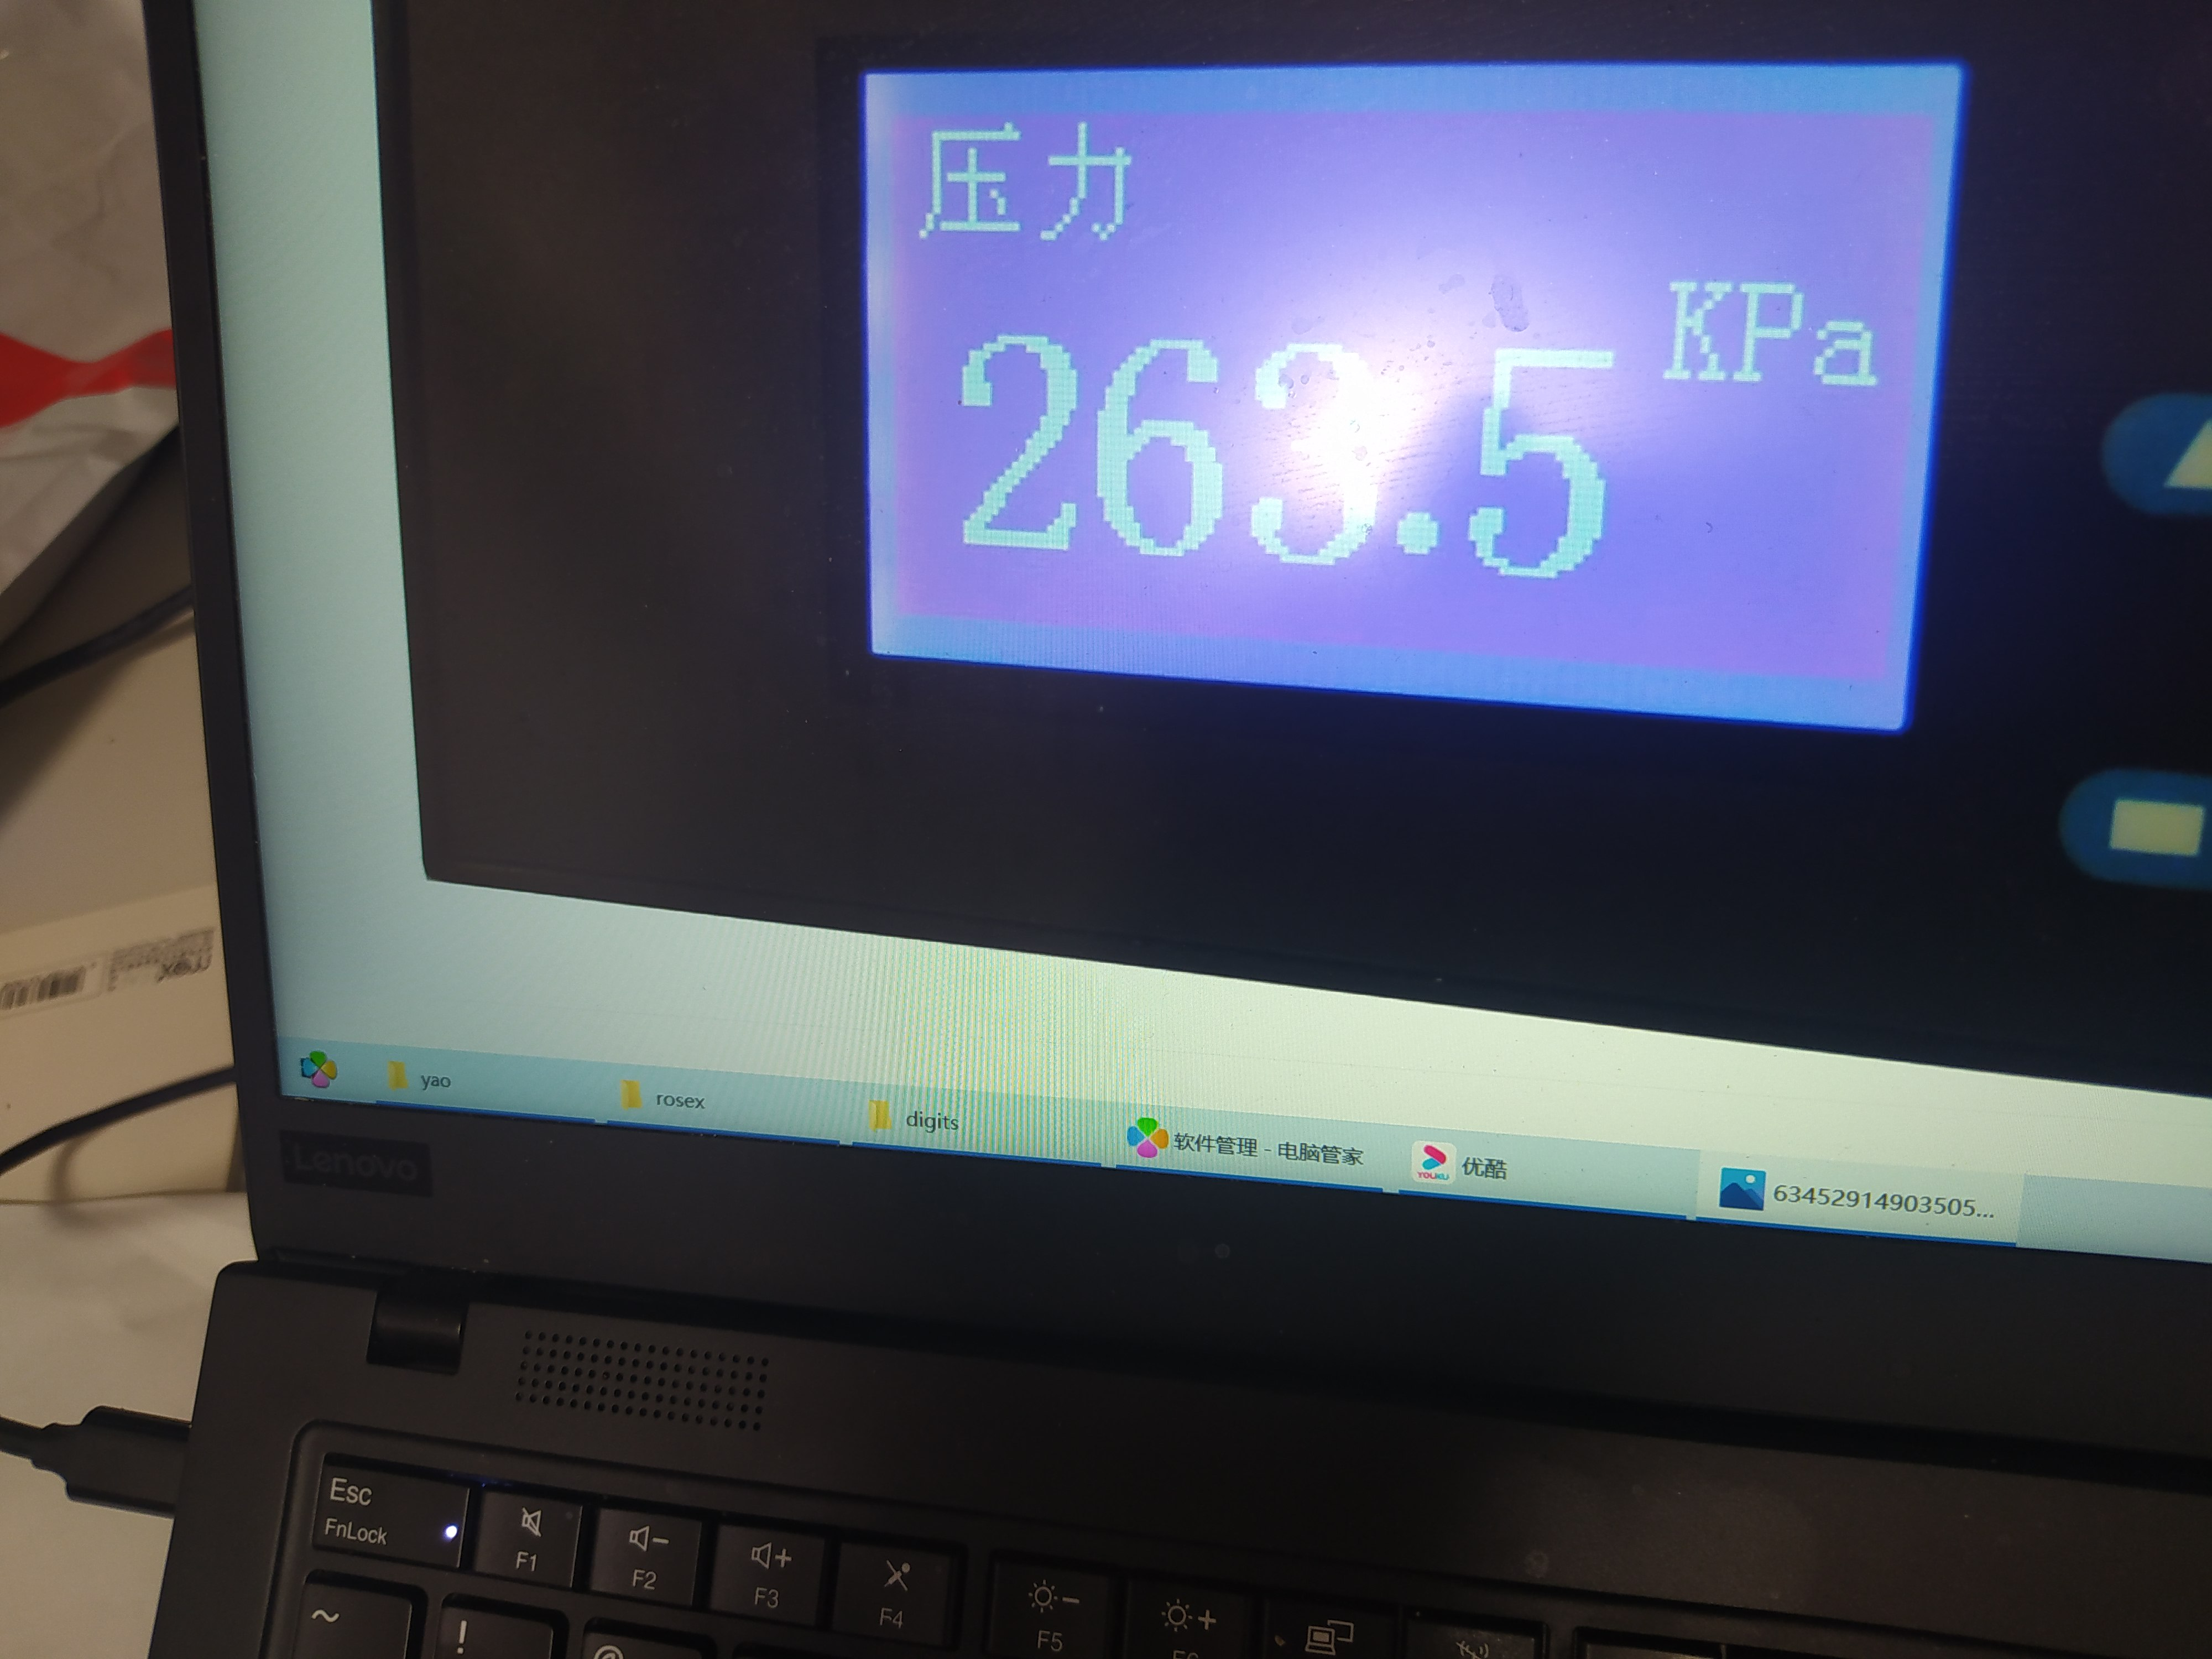.: (1397, 340, 1439, 554)
0: (1904, 1194, 1918, 1213), (1947, 1197, 1961, 1216)
1: (529, 1553, 538, 1572), (1862, 1192, 1871, 1209)
2: (961, 335, 1076, 551), (643, 1570, 658, 1591), (1832, 1188, 1844, 1208)
3: (1254, 342, 1376, 565), (1918, 1195, 1932, 1215), (766, 1588, 779, 1608), (1787, 1185, 1801, 1202)
4: (1874, 1192, 1890, 1211), (1801, 1187, 1817, 1204), (890, 1610, 904, 1629)
5: (1468, 347, 1613, 577), (1050, 1631, 1064, 1652), (1817, 1187, 1831, 1206), (1933, 1197, 1947, 1215), (1963, 1199, 1975, 1216)
6: (1099, 340, 1223, 559), (1773, 1183, 1787, 1202)
9: (1846, 1190, 1860, 1208), (1890, 1194, 1904, 1211)
